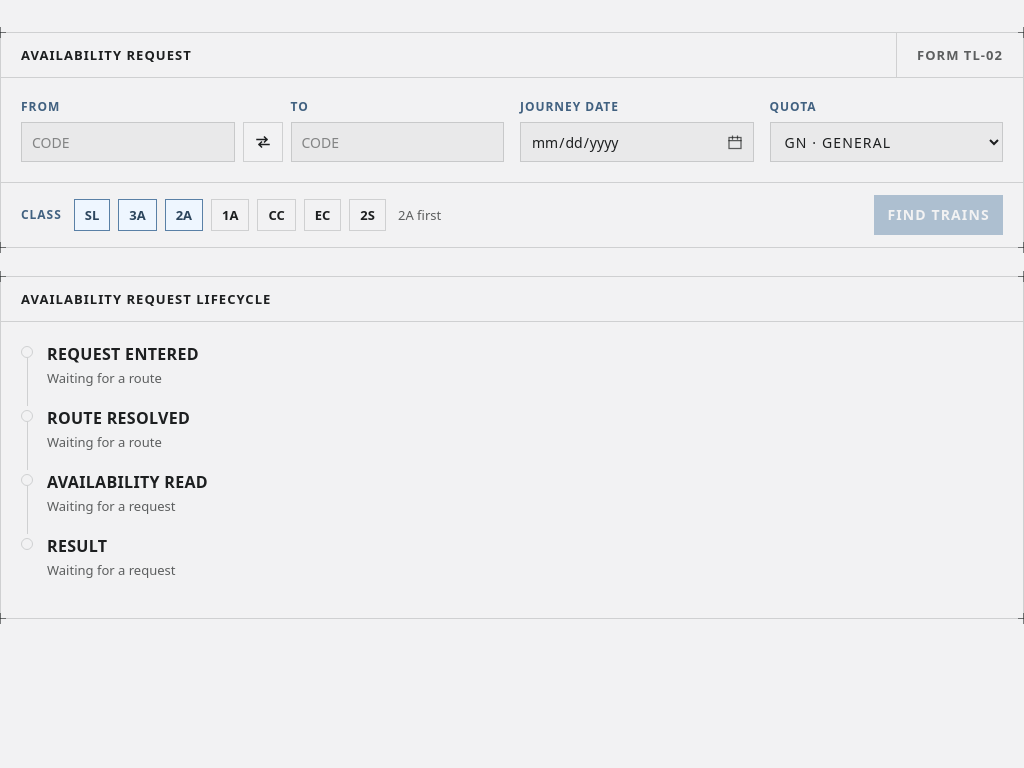
searching a route › posts the chosen classes, and lists what comes back
Type "SBC" into the dropdown labelled "From".
click(128, 142); type("SBC")  # box [21,122,234,162]
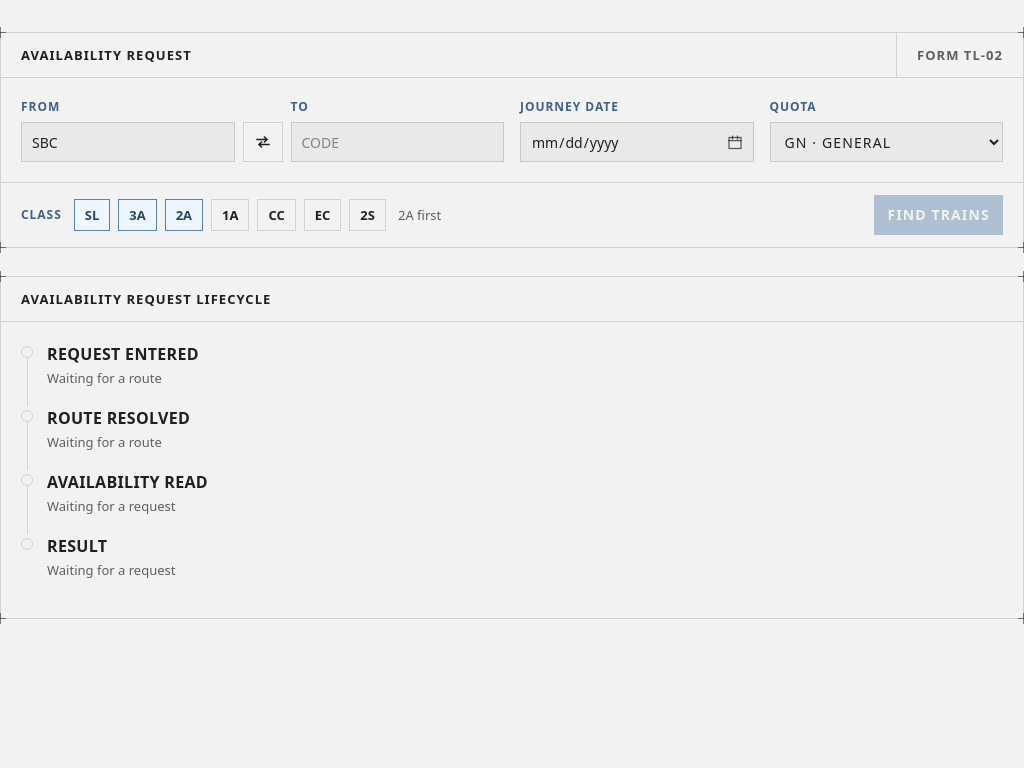
Type "NDLS" into the dropdown labelled "To".
click(397, 142); type("NDLS")  # box [290,122,504,162]
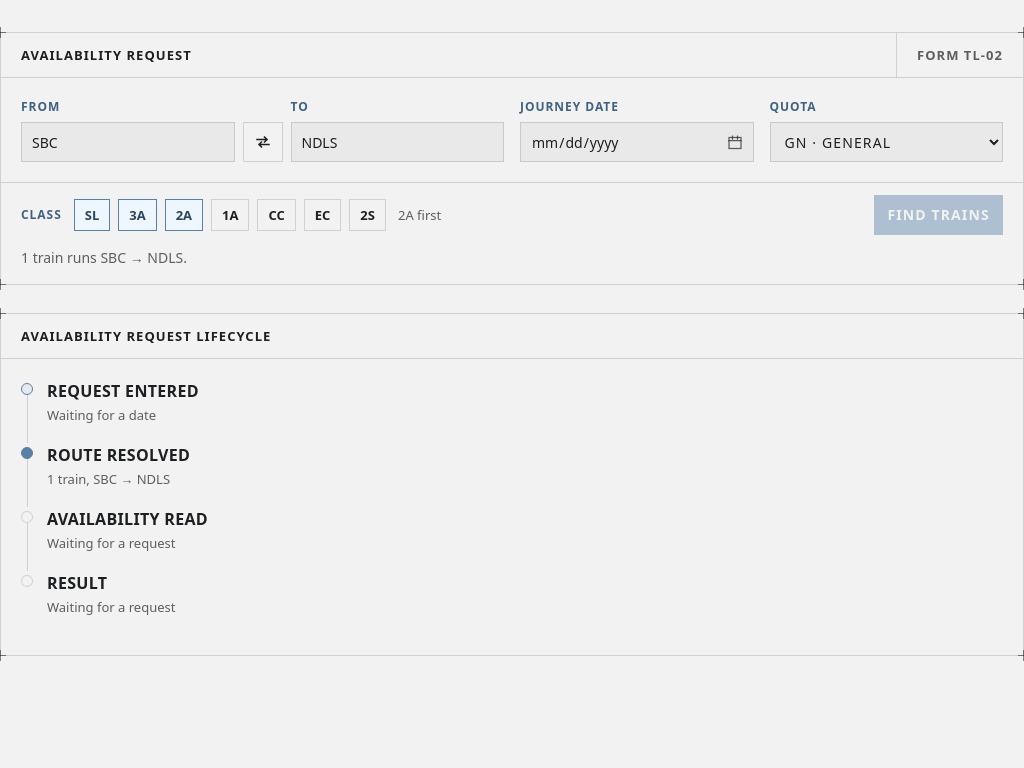
Check: the text "1 train runs SBC → NDLS." is shown, box [21,248,187,267]
Type "2026-10-16" into the date field labelled "Journey date".
click(637, 142); type("2026-10-16")  # box [520,122,754,162]
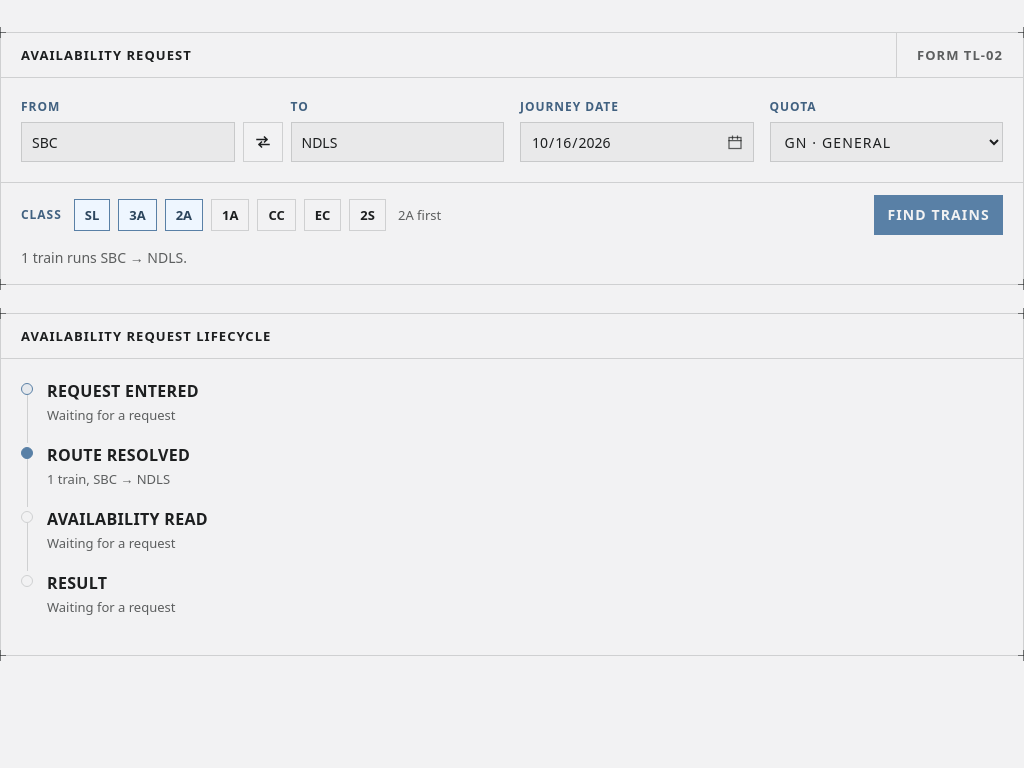
Click the button "Find trains".
click(939, 215)  # box [874,195,1003,235]
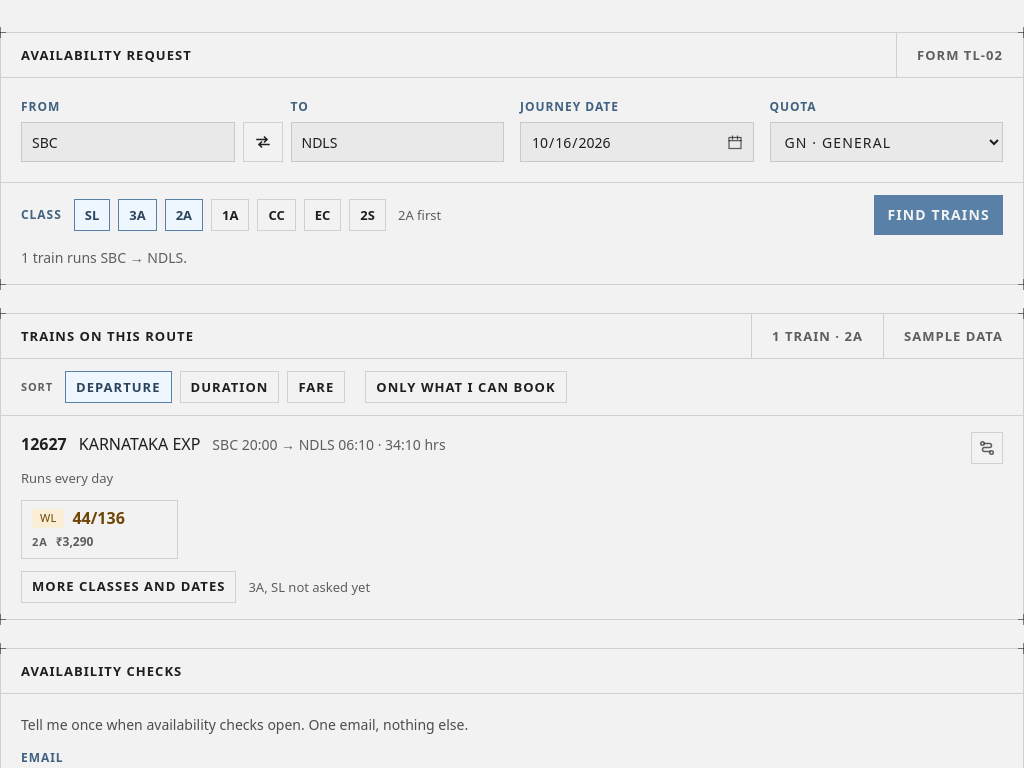
Check: the element with test id "train-row" is shown, box [1,416,1023,618]
Check: the text "KARNATAKA EXP" is shown, box [79,432,200,456]
Check: the text "3A, SL not asked yet" is shown, box [248,576,370,596]
